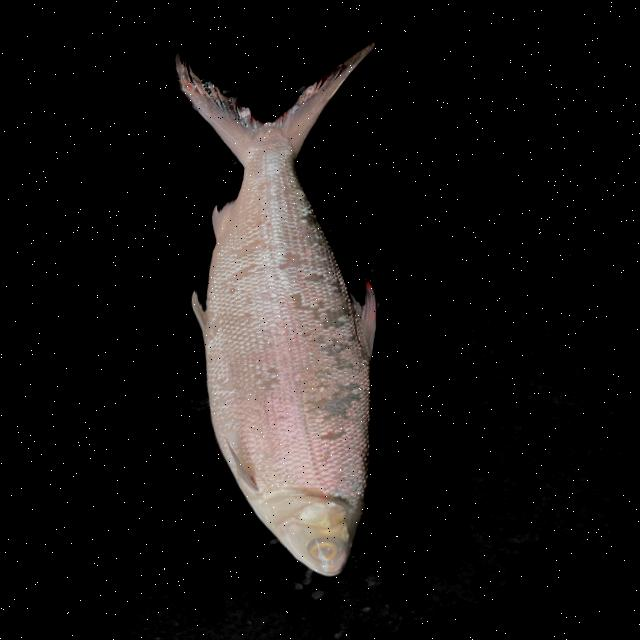845 g: (160, 29, 438, 588)
